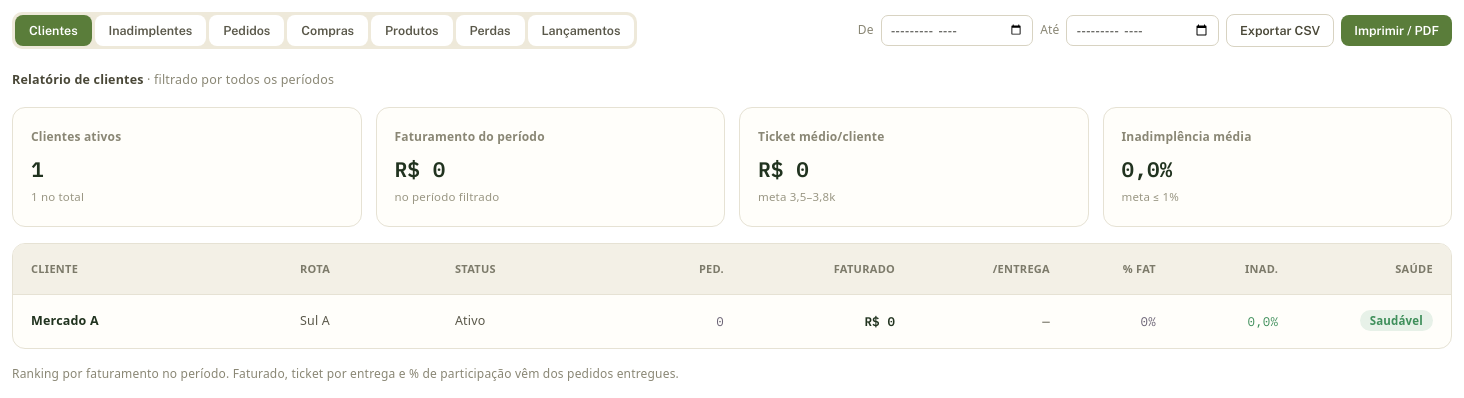
it: RelatoriosTela — compras › quantidade completa: preco medio sai limpo, sem marca nem aviso
This screenshot has width=1464, height=398.
Expected: the text "Mercado A" is shown, [31,312,99,330]
Click the button "Compras". click: (328,30)
box: [287,15,368,46]
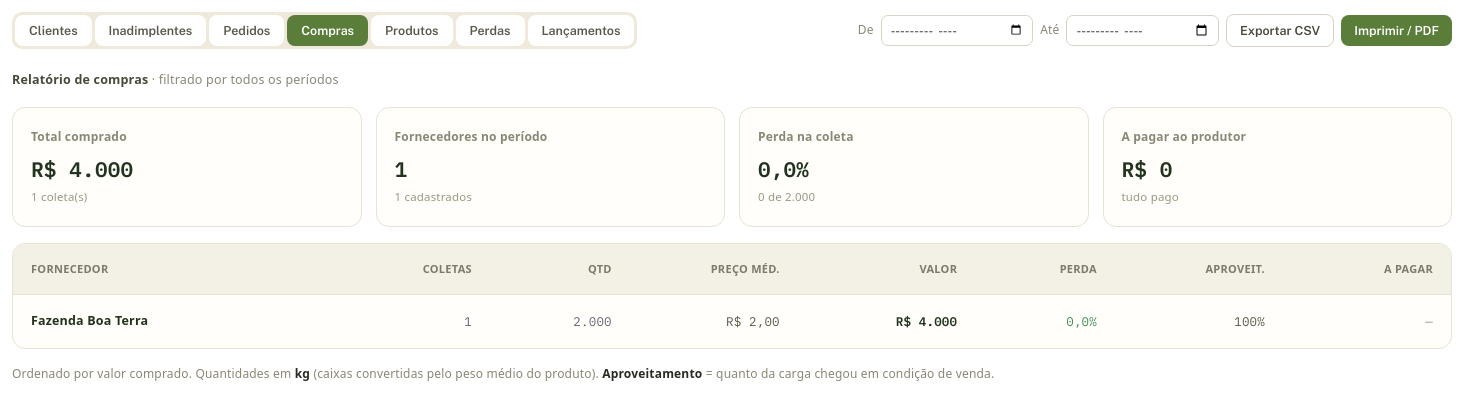
Expected: the text "R$ 2,00" is shown, [726,314,780,330]
